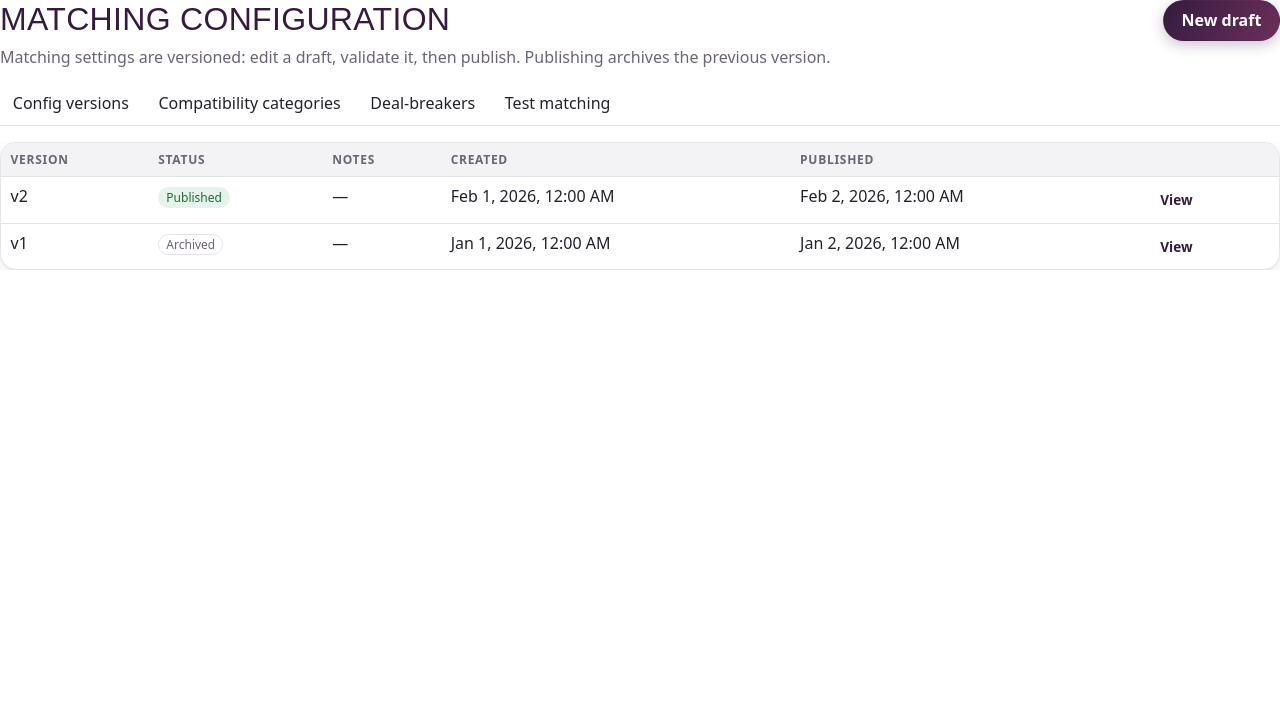
Test: ConfigVersionsPage › shows a conflict when a draft already exists
Click the button "New draft".
click(1221, 21)  # box [1163,0,1279,41]
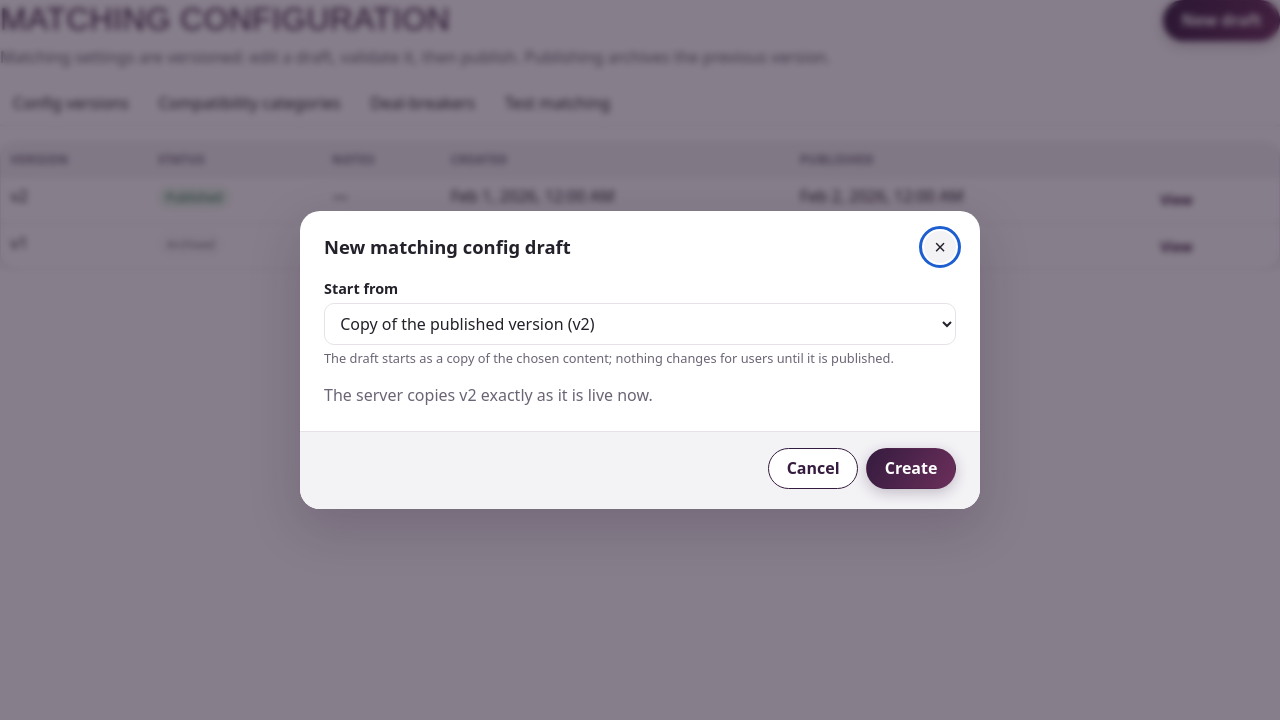
Click the button "Create".
click(911, 469)  # box [866,448,956,489]
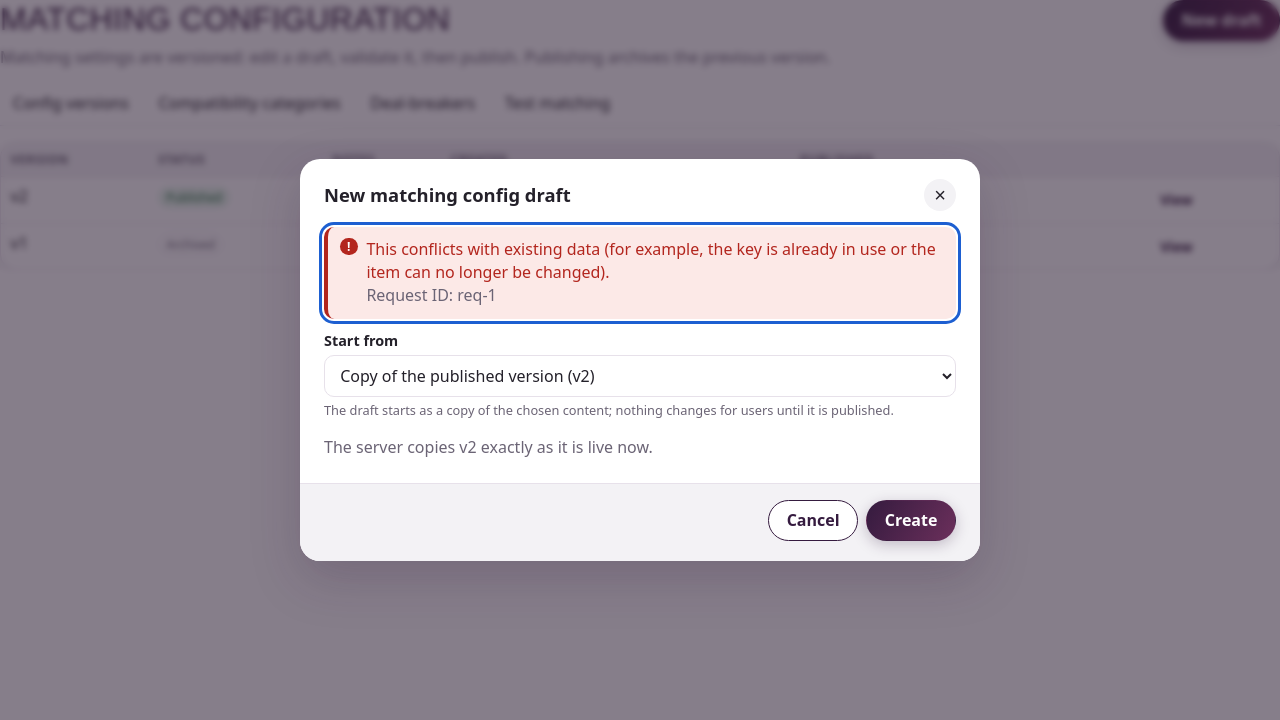
Expected: the text "This conflicts with existing data (for example, the key is already in use or the item can no longer be changed)." is shown, [366,238,936,283]
